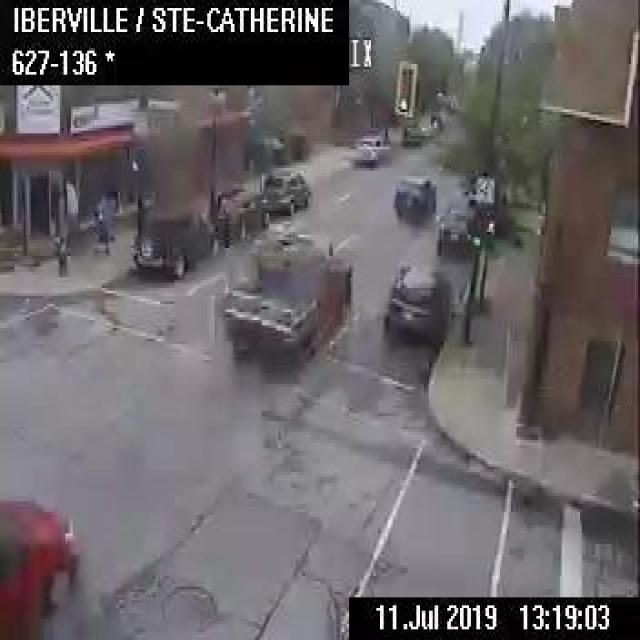pedestrian: (96, 184, 115, 256)
vehicle: (221, 228, 351, 368), (0, 496, 80, 637), (130, 206, 217, 278), (382, 262, 451, 344), (215, 185, 269, 236), (263, 167, 310, 212), (392, 174, 434, 213), (434, 204, 466, 255), (353, 130, 391, 164), (402, 112, 434, 144)
